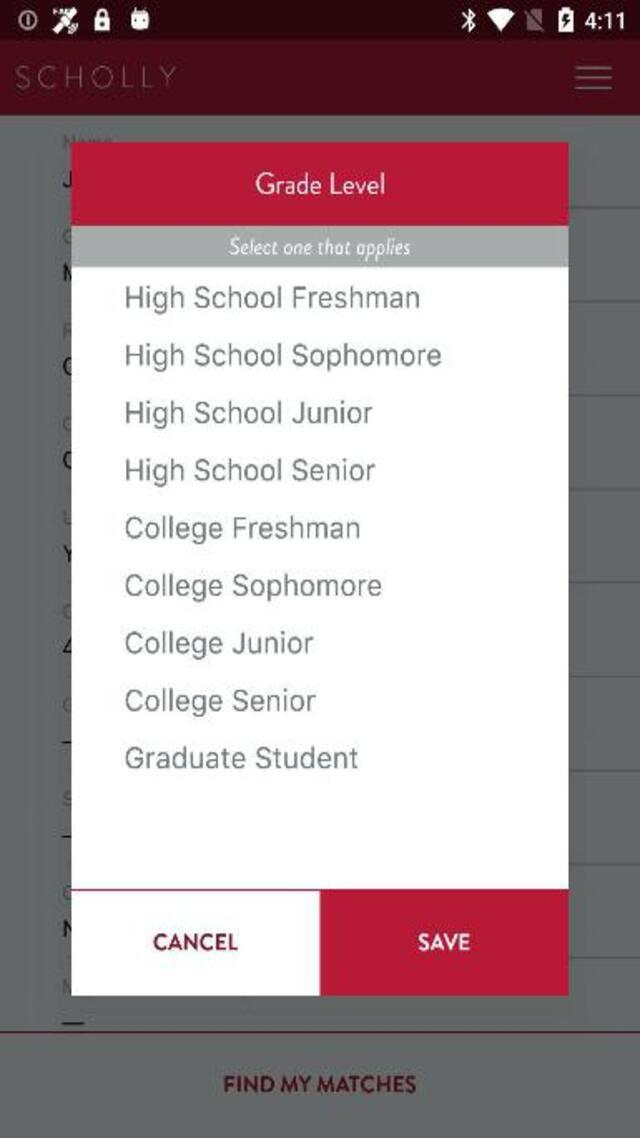Icon: (574, 66, 612, 91)
Text: (125, 340, 444, 370), (126, 286, 419, 315), (124, 572, 380, 602), (126, 514, 360, 546), (127, 456, 376, 486), (125, 400, 374, 430), (126, 686, 316, 718), (126, 745, 359, 770), (124, 628, 314, 658), (229, 236, 409, 262), (17, 67, 176, 90), (223, 1074, 414, 1092), (255, 172, 383, 195)
TextButton: (322, 889, 570, 996), (72, 889, 320, 996)
